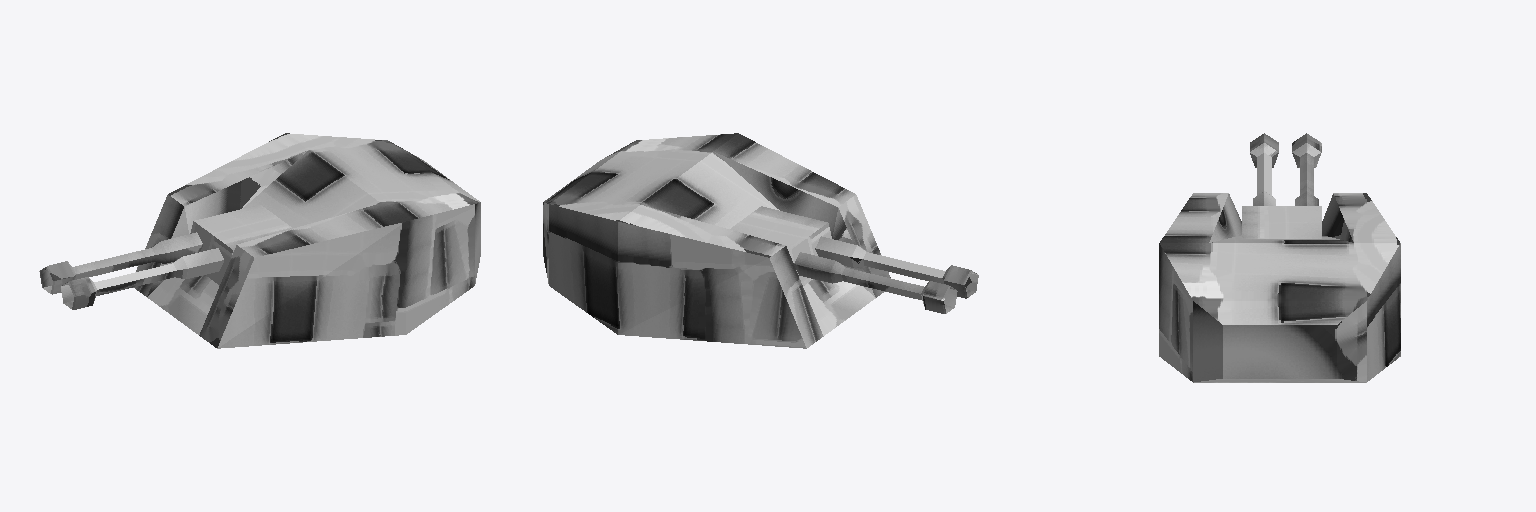
The picture shows the model from 3 angles: view 1: azimuth 30°, elevation 25°; view 2: azimuth 150°, elevation 25°; view 3: azimuth 270°, elevation 25°; orthographic projection.
Visible parts, largest first — view 1: Cube.001_Cube.000; view 2: Cube.001_Cube.000; view 3: Cube.001_Cube.000.
Boxes of the visible parts, x1=… form: Cube.001_Cube.000: x1=39, y1=133, x2=480, y2=348; Cube.001_Cube.000: x1=543, y1=133, x2=978, y2=348; Cube.001_Cube.000: x1=1159, y1=133, x2=1400, y2=382.
Size of the model in its own units: 9.44 by 2.61 by 5.03.
Materials: 1 (1 with a texture image).